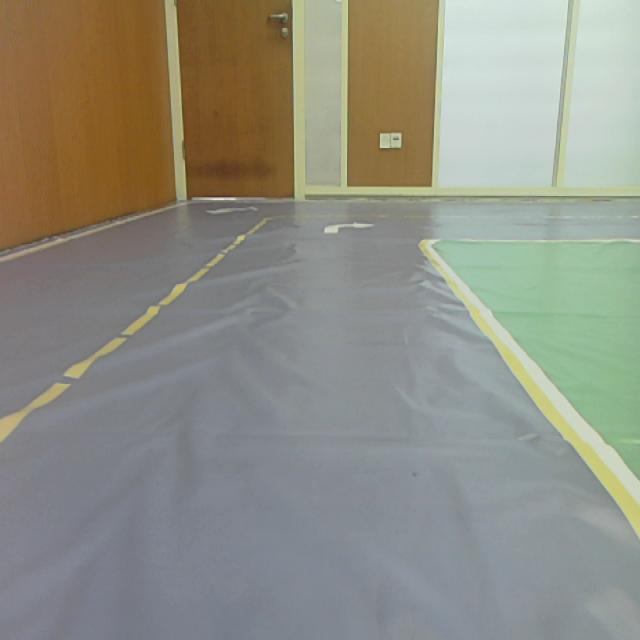left_lane: (0, 218, 266, 444)
right_lane: (419, 247, 640, 538)
